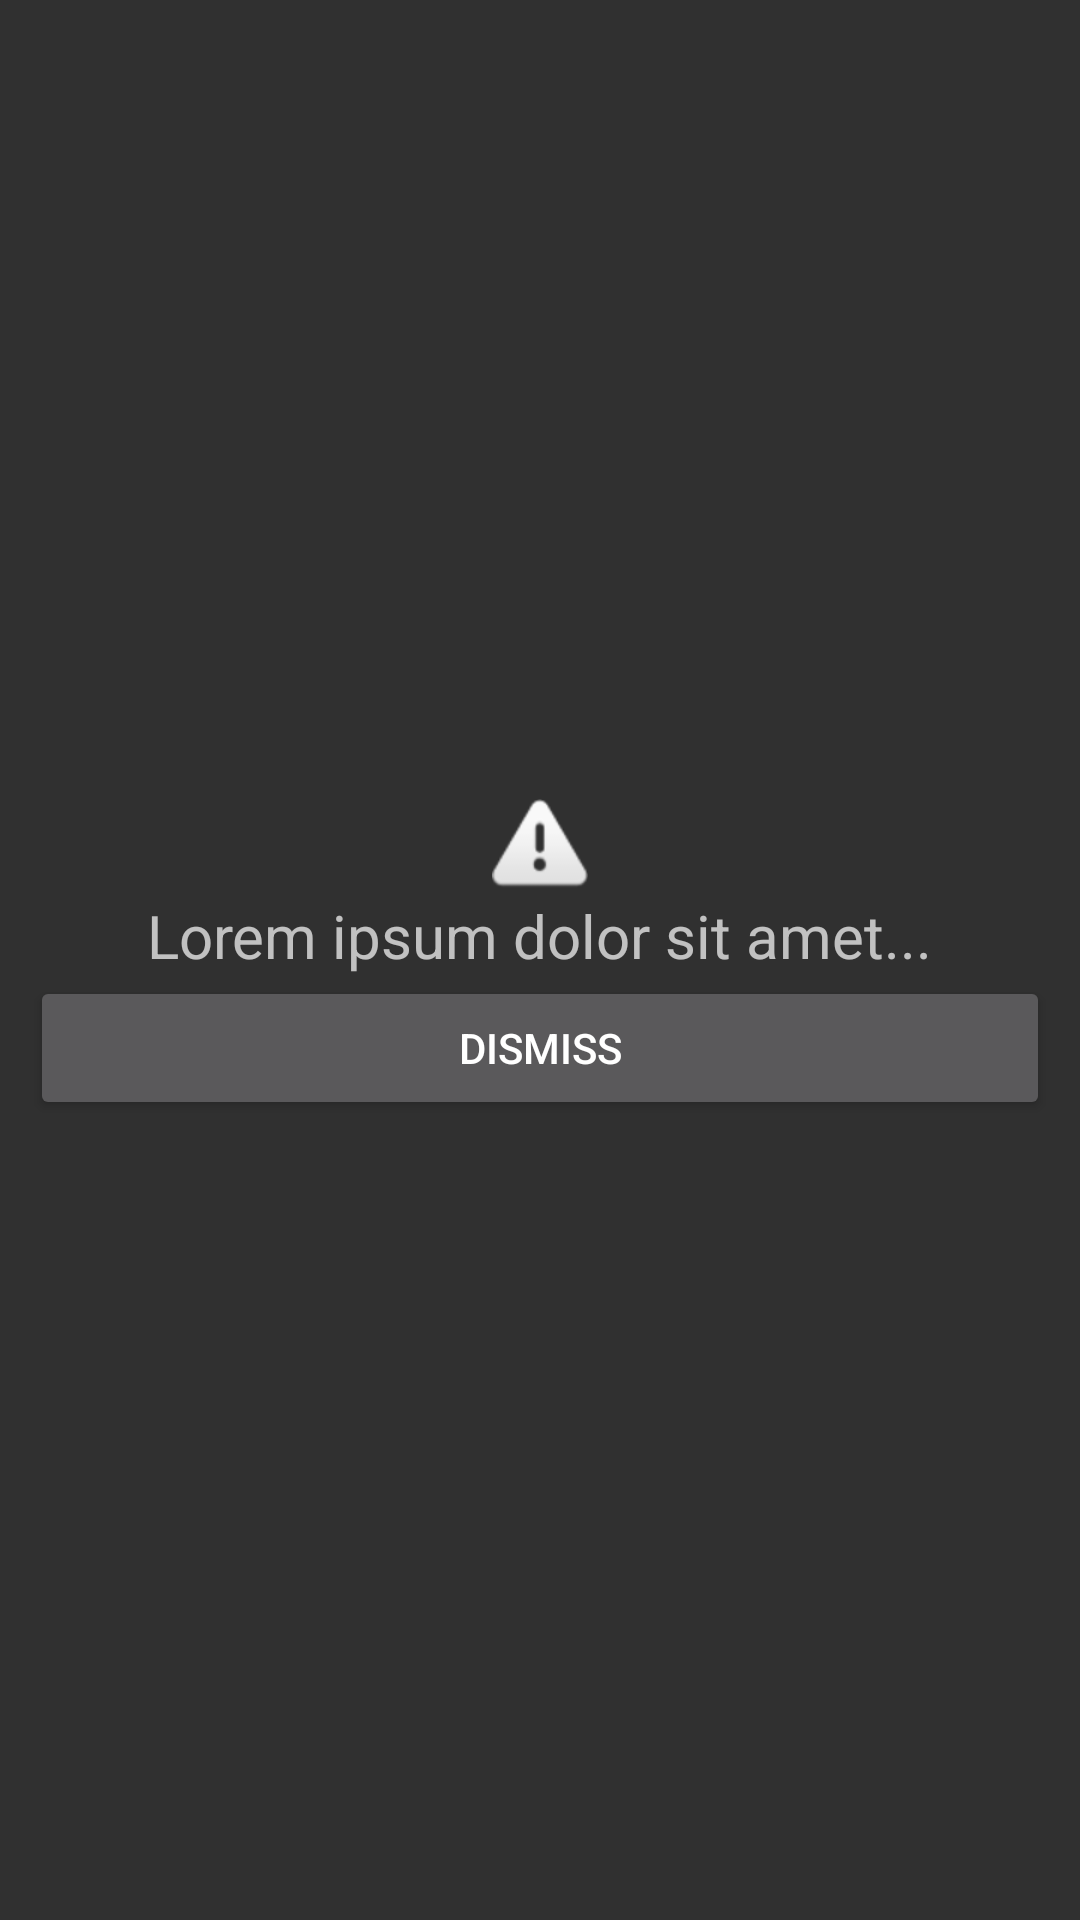

Where to tap for icons on this 1080px x 1920px app screen, as (x=x, y=y):
alert: (x=540, y=842)
